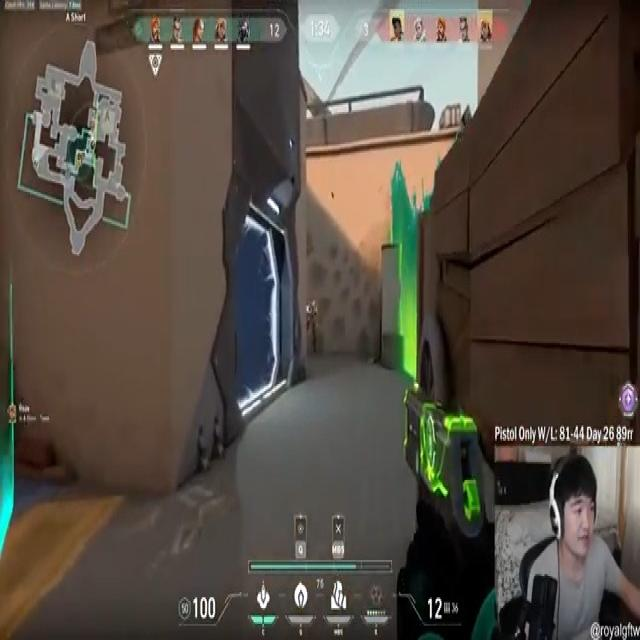enemy: (306, 297, 321, 353)
